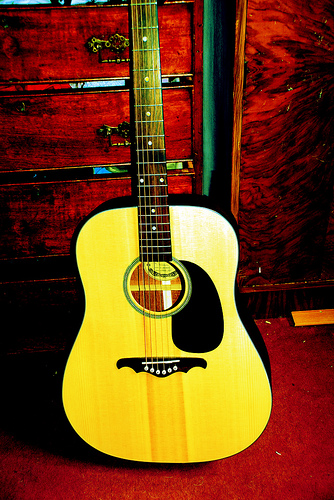guitar: (56, 1, 276, 466)
